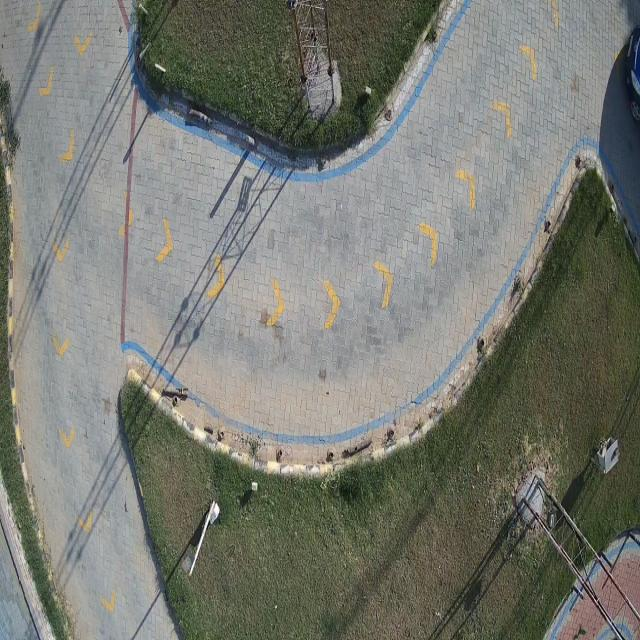car: (625, 24, 640, 122)
